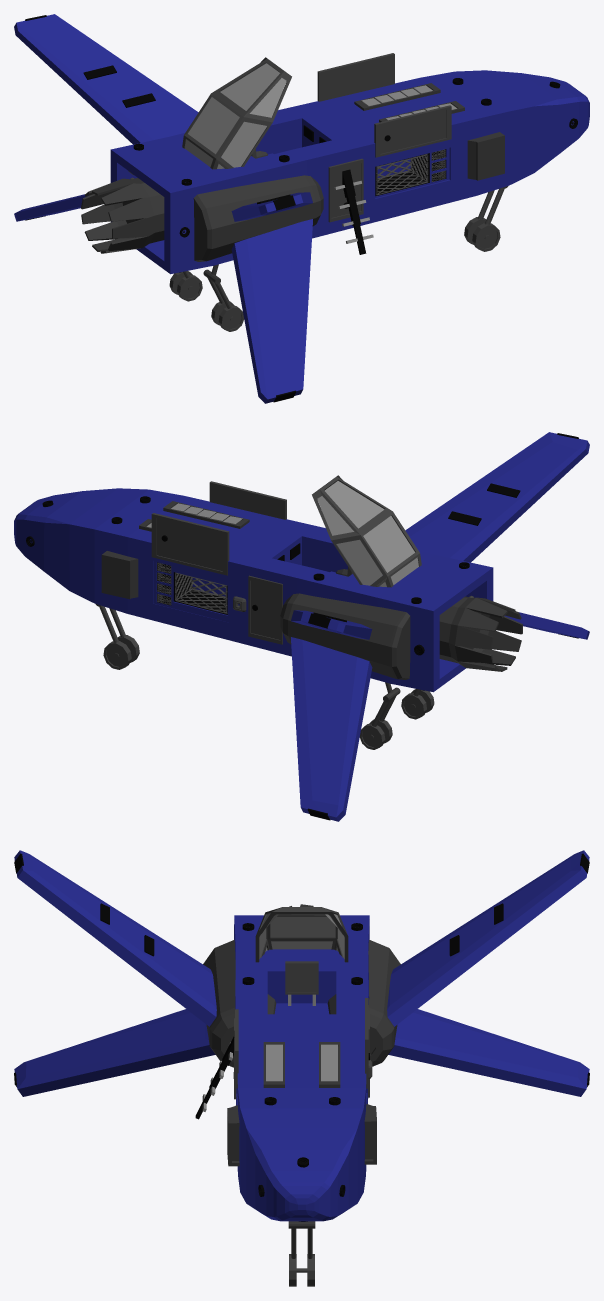
The model's file is FighterGen7_blue_open.glb.
3 renders of one model, top to bottom at view 1: azimuth 30°, elevation 25°; view 2: azimuth 150°, elevation 25°; view 3: azimuth 270°, elevation 25°, orthographic. The views are drawn at different scales.
Visible parts, largest first — view 1: Body, Cube.003, Cylinder, Cylinder.002, Cube.116, Cube.114, Cube.099, Cube.043, Cube.104, Cube.120, Cube.102, Cube.105 (+7 smaller); view 2: Body, Cube.003, Cylinder, Cylinder.002, Cube.114, Cube.099, Cube.115, Cube.116, Cube.043, Cube.104, Cube.102, Cube.105 (+7 smaller); view 3: Cube.003, Body, Cylinder, Cube.099, Cube.043, Cube.104, Cube.094, Cube.108.
Boxes of the visible parts, <box> form: Body: <box>110,70,589,274</box>; Cube.003: <box>14,14,312,403</box>; Cylinder: <box>193,151,323,261</box>; Cylinder.002: <box>81,178,164,253</box>; Cube.116: <box>374,105,451,157</box>; Cube.114: <box>317,53,394,101</box>; Cube.099: <box>182,57,291,169</box>; Cube.043: <box>467,132,504,180</box>; Cube.104: <box>188,97,239,154</box>; Cube.120: <box>328,158,363,222</box>; Cube.102: <box>220,63,279,110</box>; Cube.105: <box>221,121,267,167</box>; Body: <box>14,488,493,692</box>; Cube.003: <box>291,432,589,821</box>; Cylinder: <box>280,569,410,679</box>; Cylinder.002: <box>439,596,522,671</box>; Cube.114: <box>151,513,229,575</box>; Cube.099: <box>312,475,421,587</box>; Cube.115: <box>248,575,282,644</box>; Cube.116: <box>209,481,286,519</box>; Cube.043: <box>101,551,138,599</box>; Cube.104: <box>363,516,414,572</box>; Cube.102: <box>324,481,384,528</box>; Cube.105: <box>336,539,382,585</box>; Cube.003: <box>14,850,589,1096</box>; Body: <box>234,915,369,1221</box>; Cylinder: <box>203,939,400,1067</box>; Cube.099: <box>255,907,348,962</box>; Cube.043: <box>227,1104,376,1166</box>; Cube.104: <box>270,916,335,937</box>; Cube.094: <box>285,961,318,994</box>; Cube.108: <box>263,1042,340,1087</box>.
Bounding box in the file's own units: 18.67 × 8.5 × 16.83.
